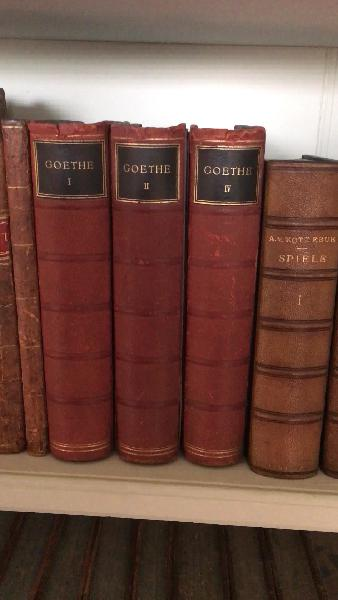Aa6-10: (3, 110, 49, 456)
Aa6-11_13: (23, 118, 250, 470)
